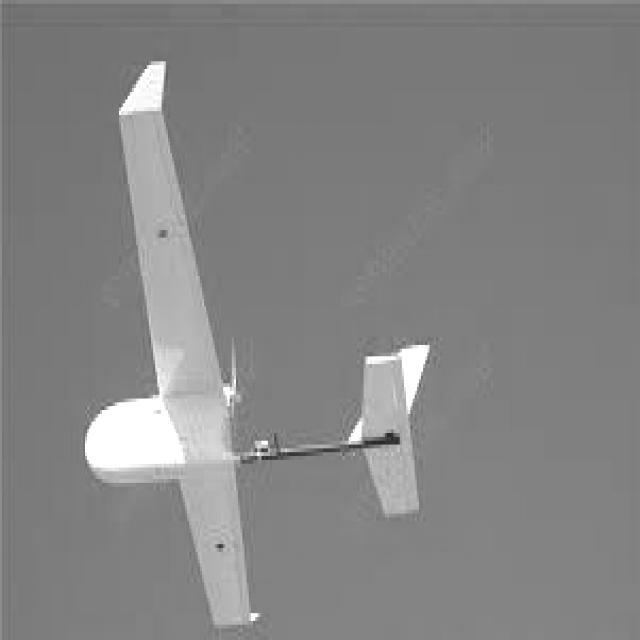iha: (89, 51, 421, 615)
